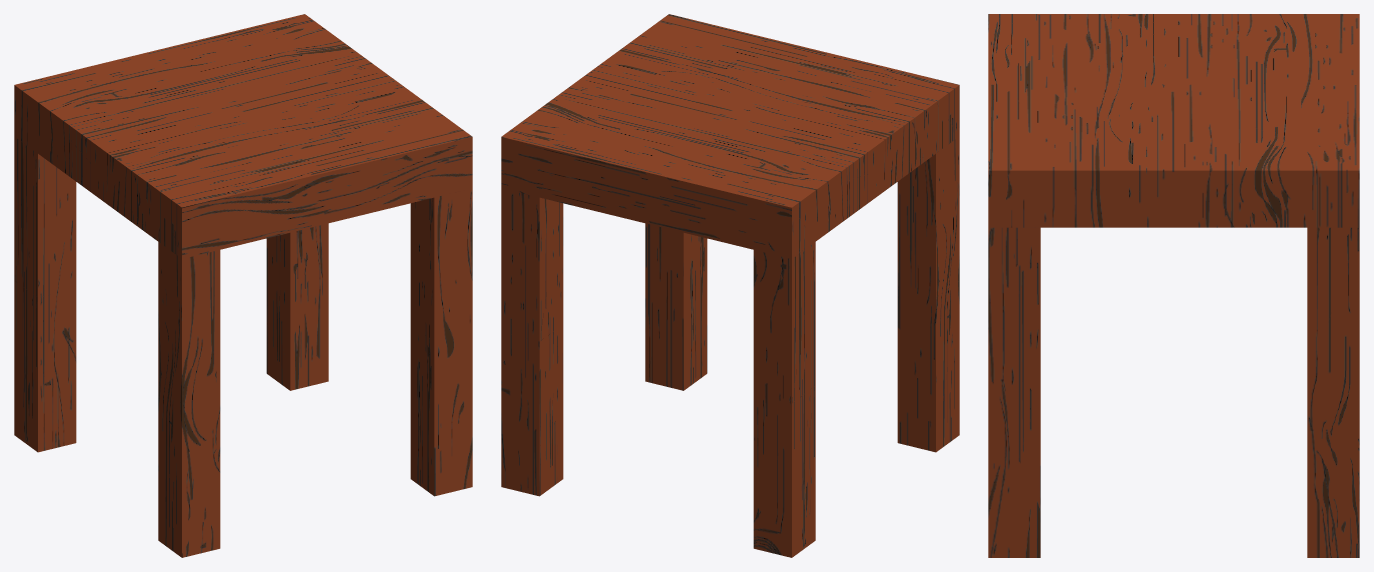
The model's file is end table.fbx.
The picture shows the model from 3 angles, left to right: view 1: azimuth 30°, elevation 25°; view 2: azimuth 150°, elevation 25°; view 3: azimuth 270°, elevation 25°; orthographic projection. The views are drawn at different scales.
Visible parts, largest first — view 1: End table; view 2: End table; view 3: End table.
Part boxes in pixels (x1=…): End table: x1=14, y1=14, x2=472, y2=557; End table: x1=501, y1=14, x2=959, y2=557; End table: x1=988, y1=14, x2=1359, y2=557.
Bounding box in the file's own units: 50.57 × 58.22 × 50.57.
1 material, 1 textured.
